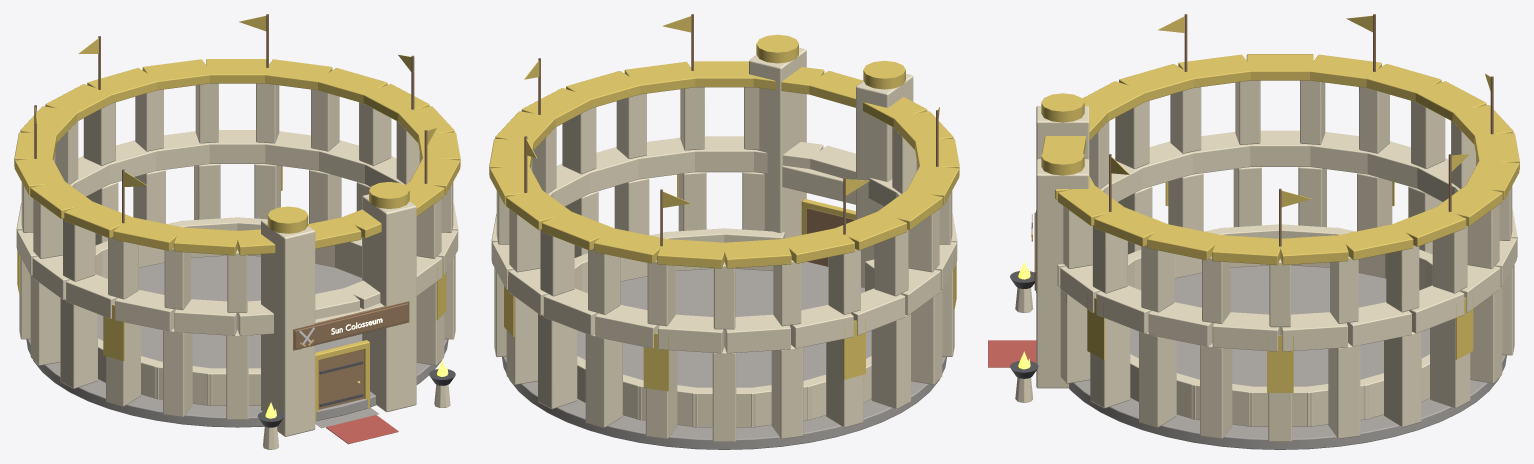
File: sun_colosseum.fbx
The picture shows the model from 3 angles, left to right: view 1: azimuth 30°, elevation 25°; view 2: azimuth 150°, elevation 25°; view 3: azimuth 270°, elevation 25°; orthographic projection. The views are drawn at different scales.
Parts seen in each view (by area): view 1: sun_colosseum; view 2: sun_colosseum; view 3: sun_colosseum.
Boxes of the visible parts, x1,y1,x2,y2 form: sun_colosseum: (14,14,460,449); sun_colosseum: (489,14,959,449); sun_colosseum: (988,14,1519,449).
Size of the model in its own units: 19.79 by 11.75 by 22.02.
